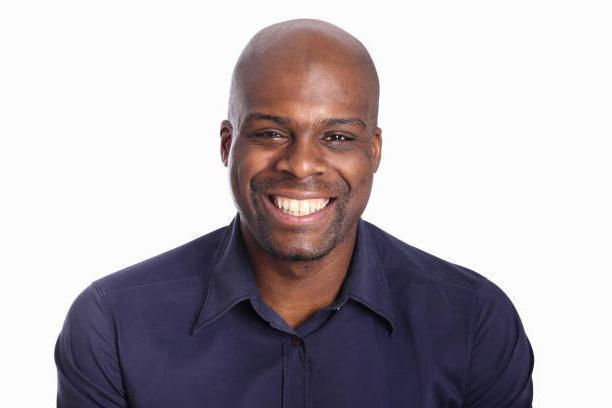Sober: (237, 61, 373, 245)
